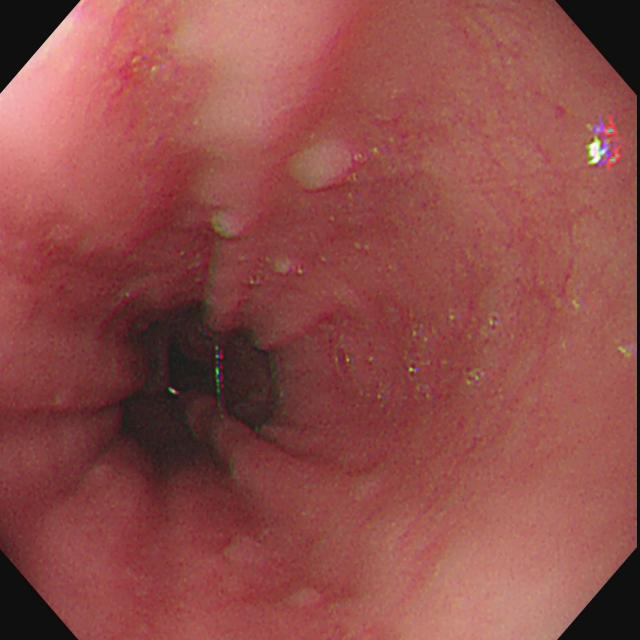E: (126, 307, 268, 467)
J: (278, 127, 372, 202), (207, 193, 265, 247)
T: (329, 313, 502, 398)
U: (583, 116, 626, 170), (213, 342, 226, 412)
